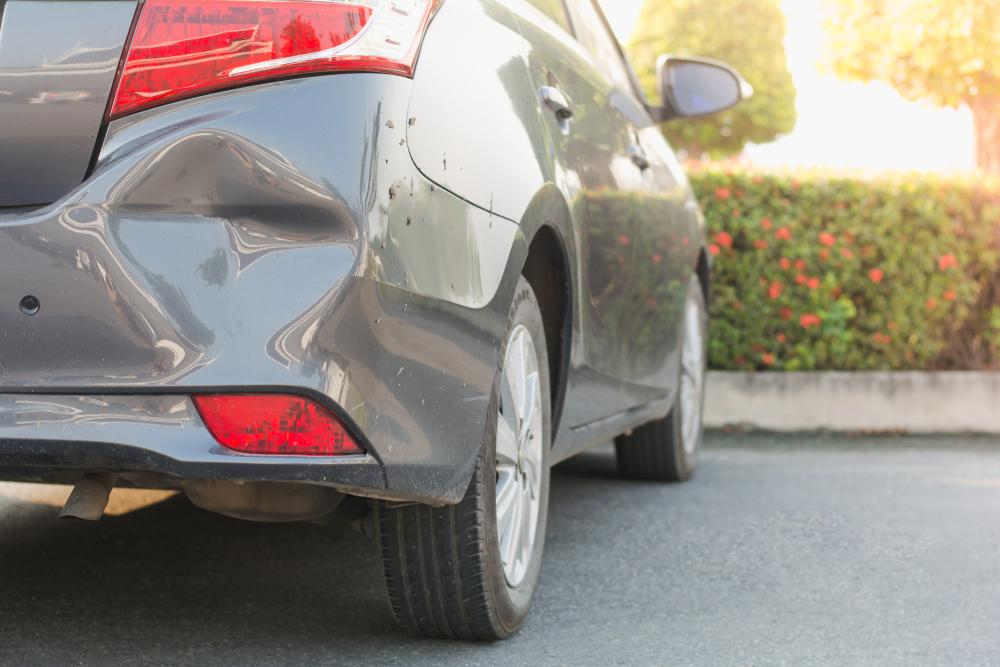dent: (108, 133, 360, 351)
